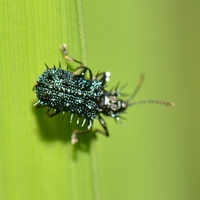insect: (34, 44, 175, 143)
